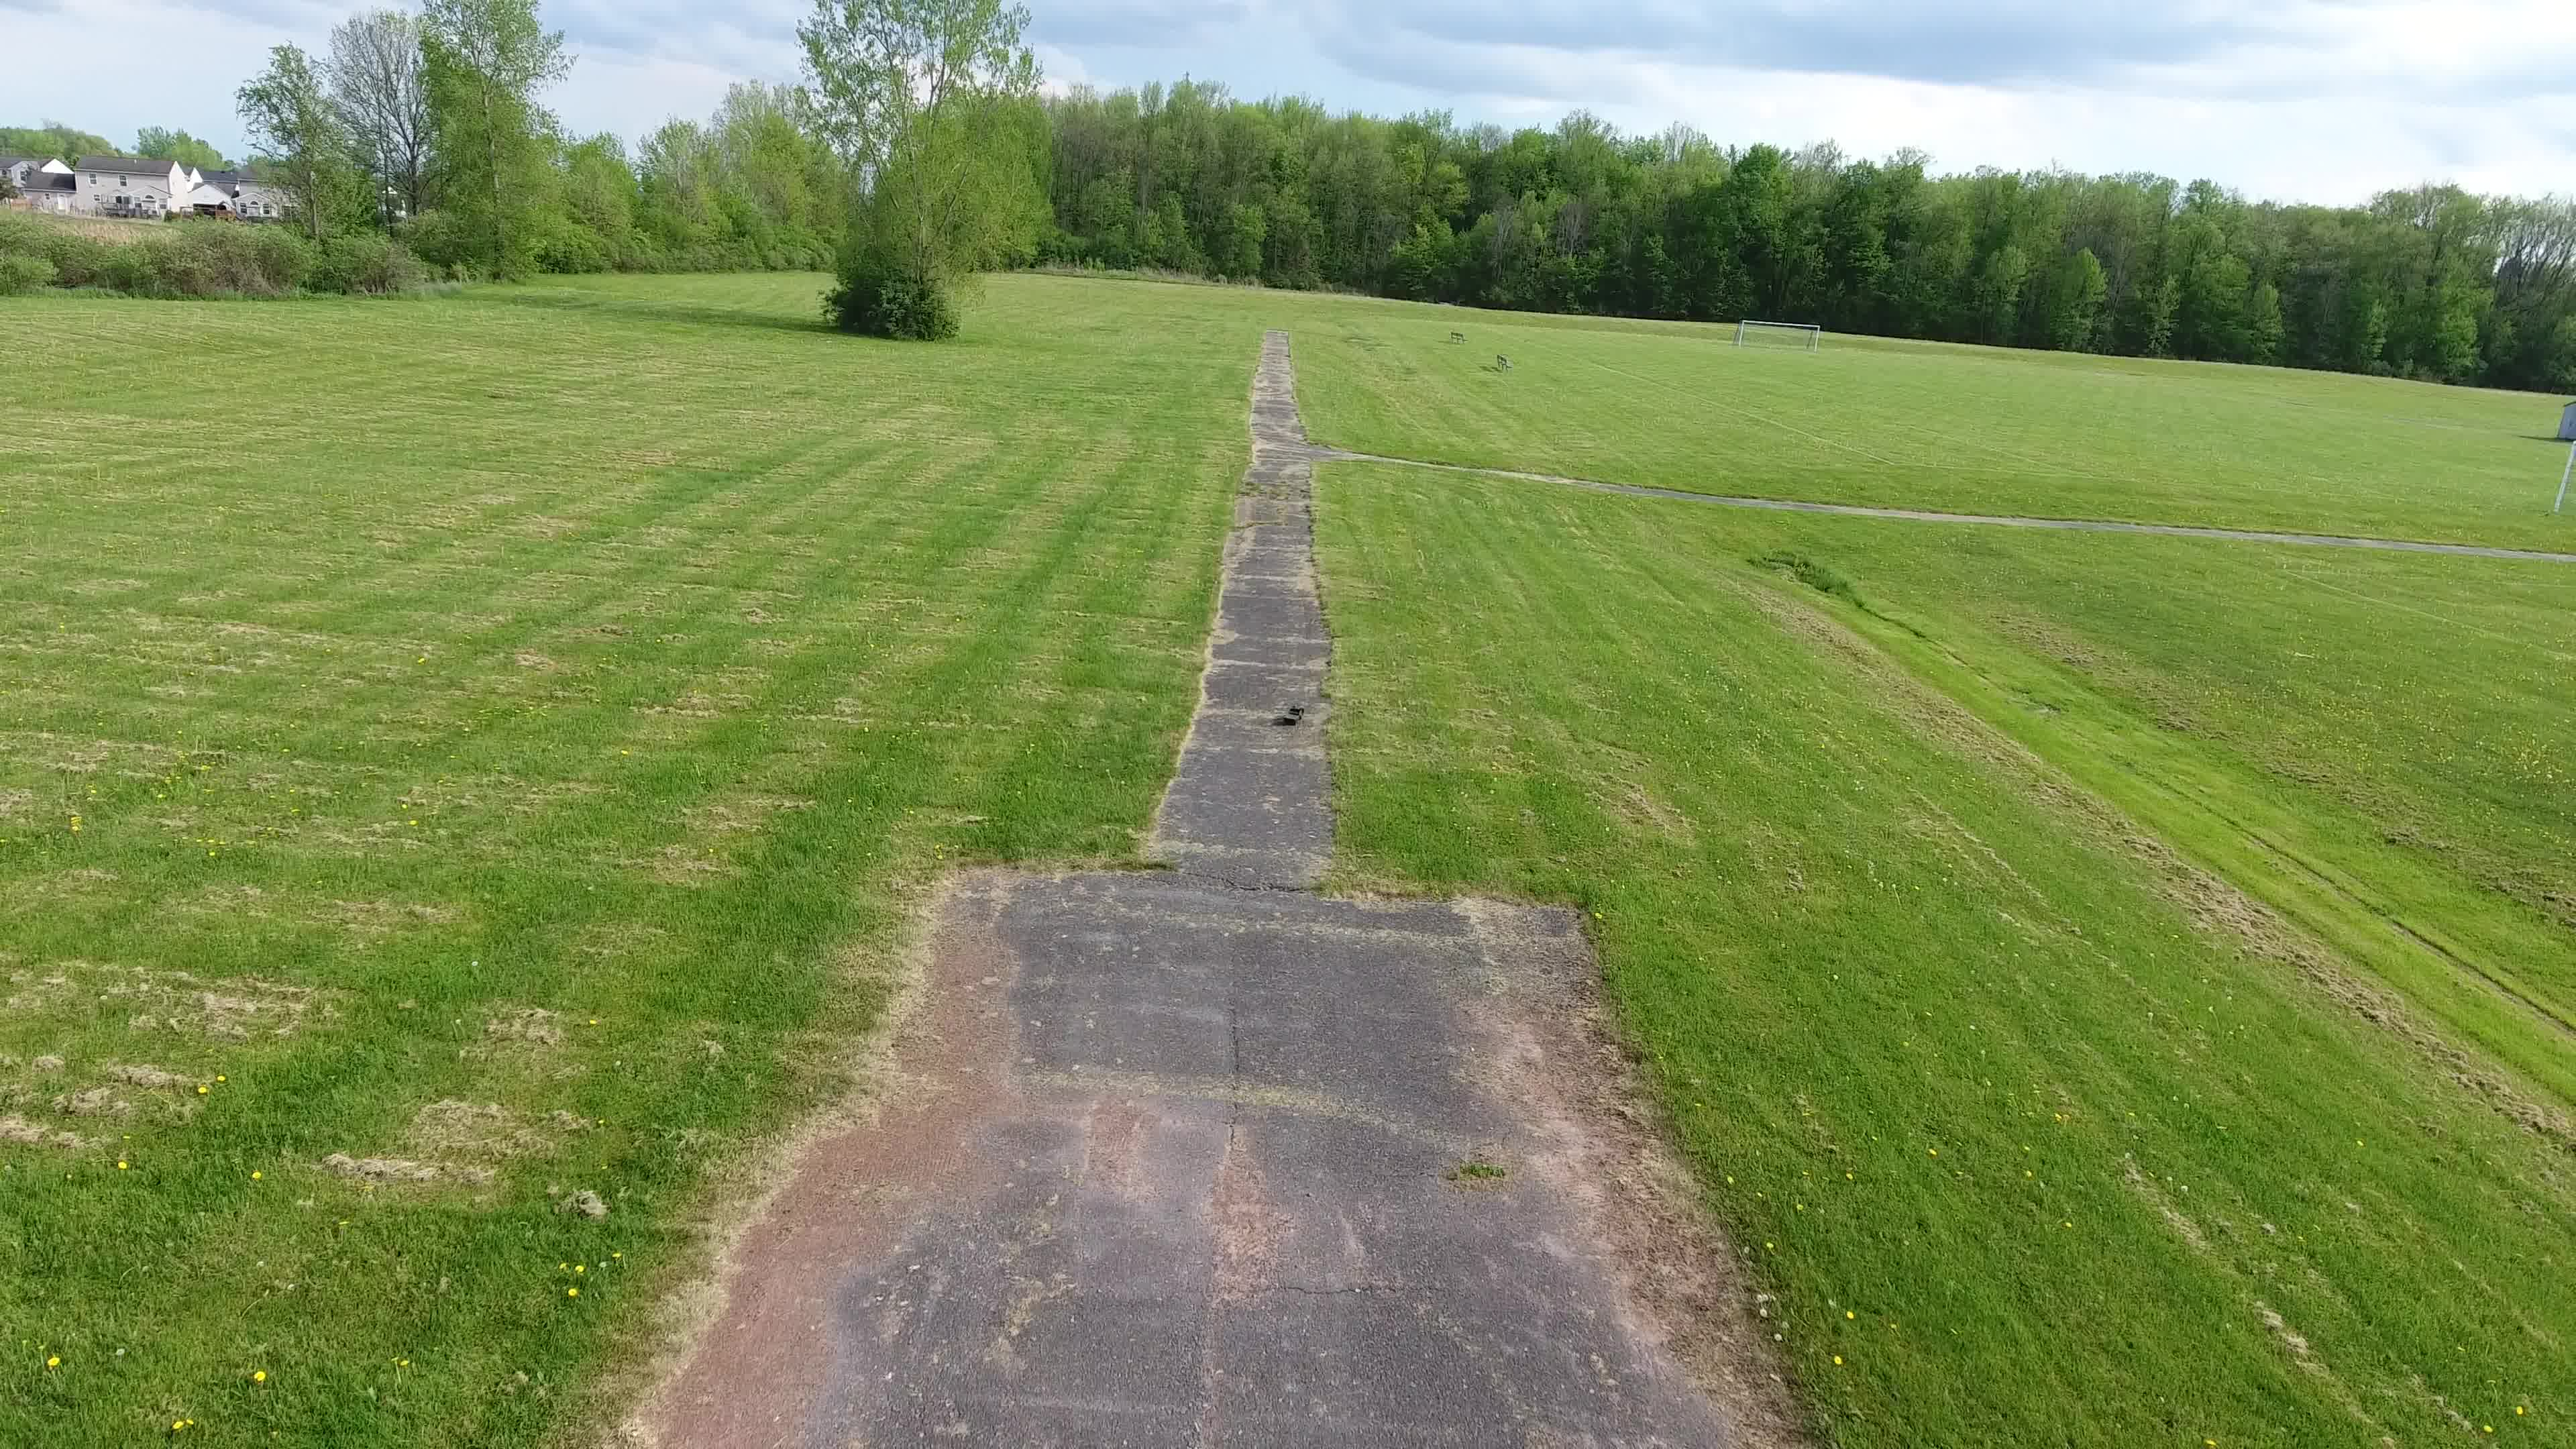transporter9_camo: (1279, 704, 1306, 727)
